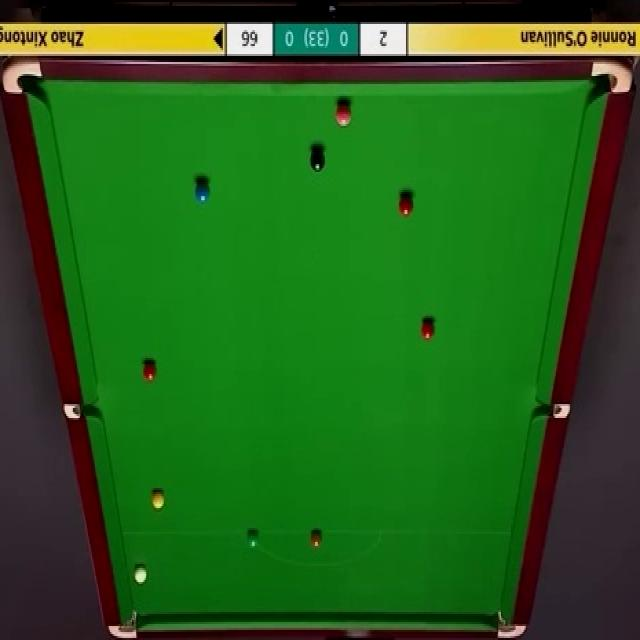pocket: (0, 56, 43, 98), (591, 60, 633, 95), (494, 606, 528, 637), (110, 608, 141, 640), (64, 400, 101, 422), (535, 405, 573, 420)
